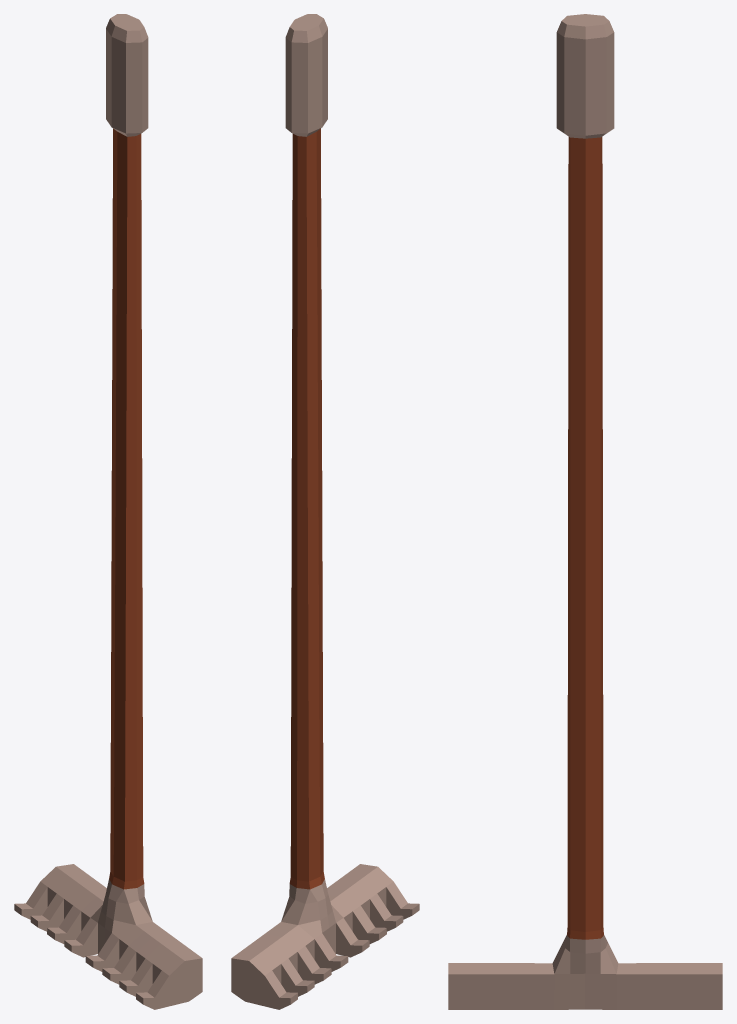
File: rake.fbx
The picture shows the model from 3 angles, left to right: view 1: azimuth 30°, elevation 25°; view 2: azimuth 150°, elevation 25°; view 3: azimuth 270°, elevation 25°; orthographic projection. The views are drawn at different scales.
Parts seen in each view (by area): view 1: rake; view 2: rake; view 3: rake.
Boxes of the visible parts, bbox=[...] form: rake: bbox=[14, 14, 202, 1009]; rake: bbox=[231, 14, 419, 1009]; rake: bbox=[448, 14, 722, 1009].
Size of the model in its own units: 38.21 by 529 by 133.
